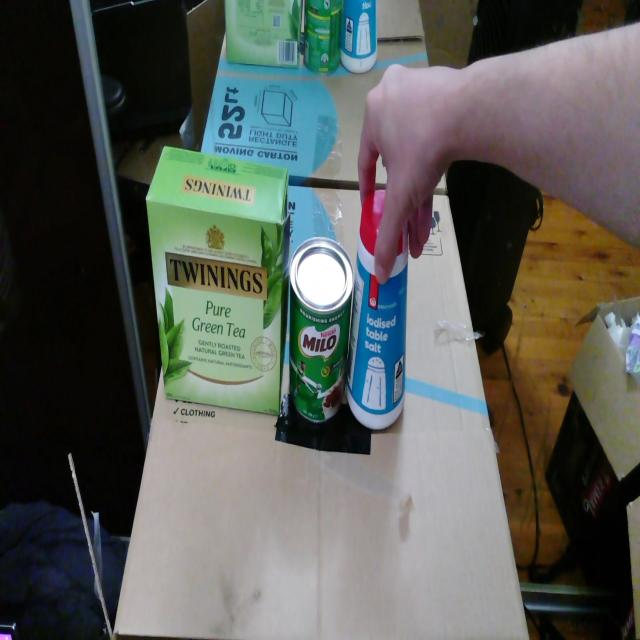nestle_milo_tin: (289, 237, 354, 424)
twinings_greentea_box: (146, 146, 290, 414)
woolworths_salt_bottle: (346, 190, 408, 430)
